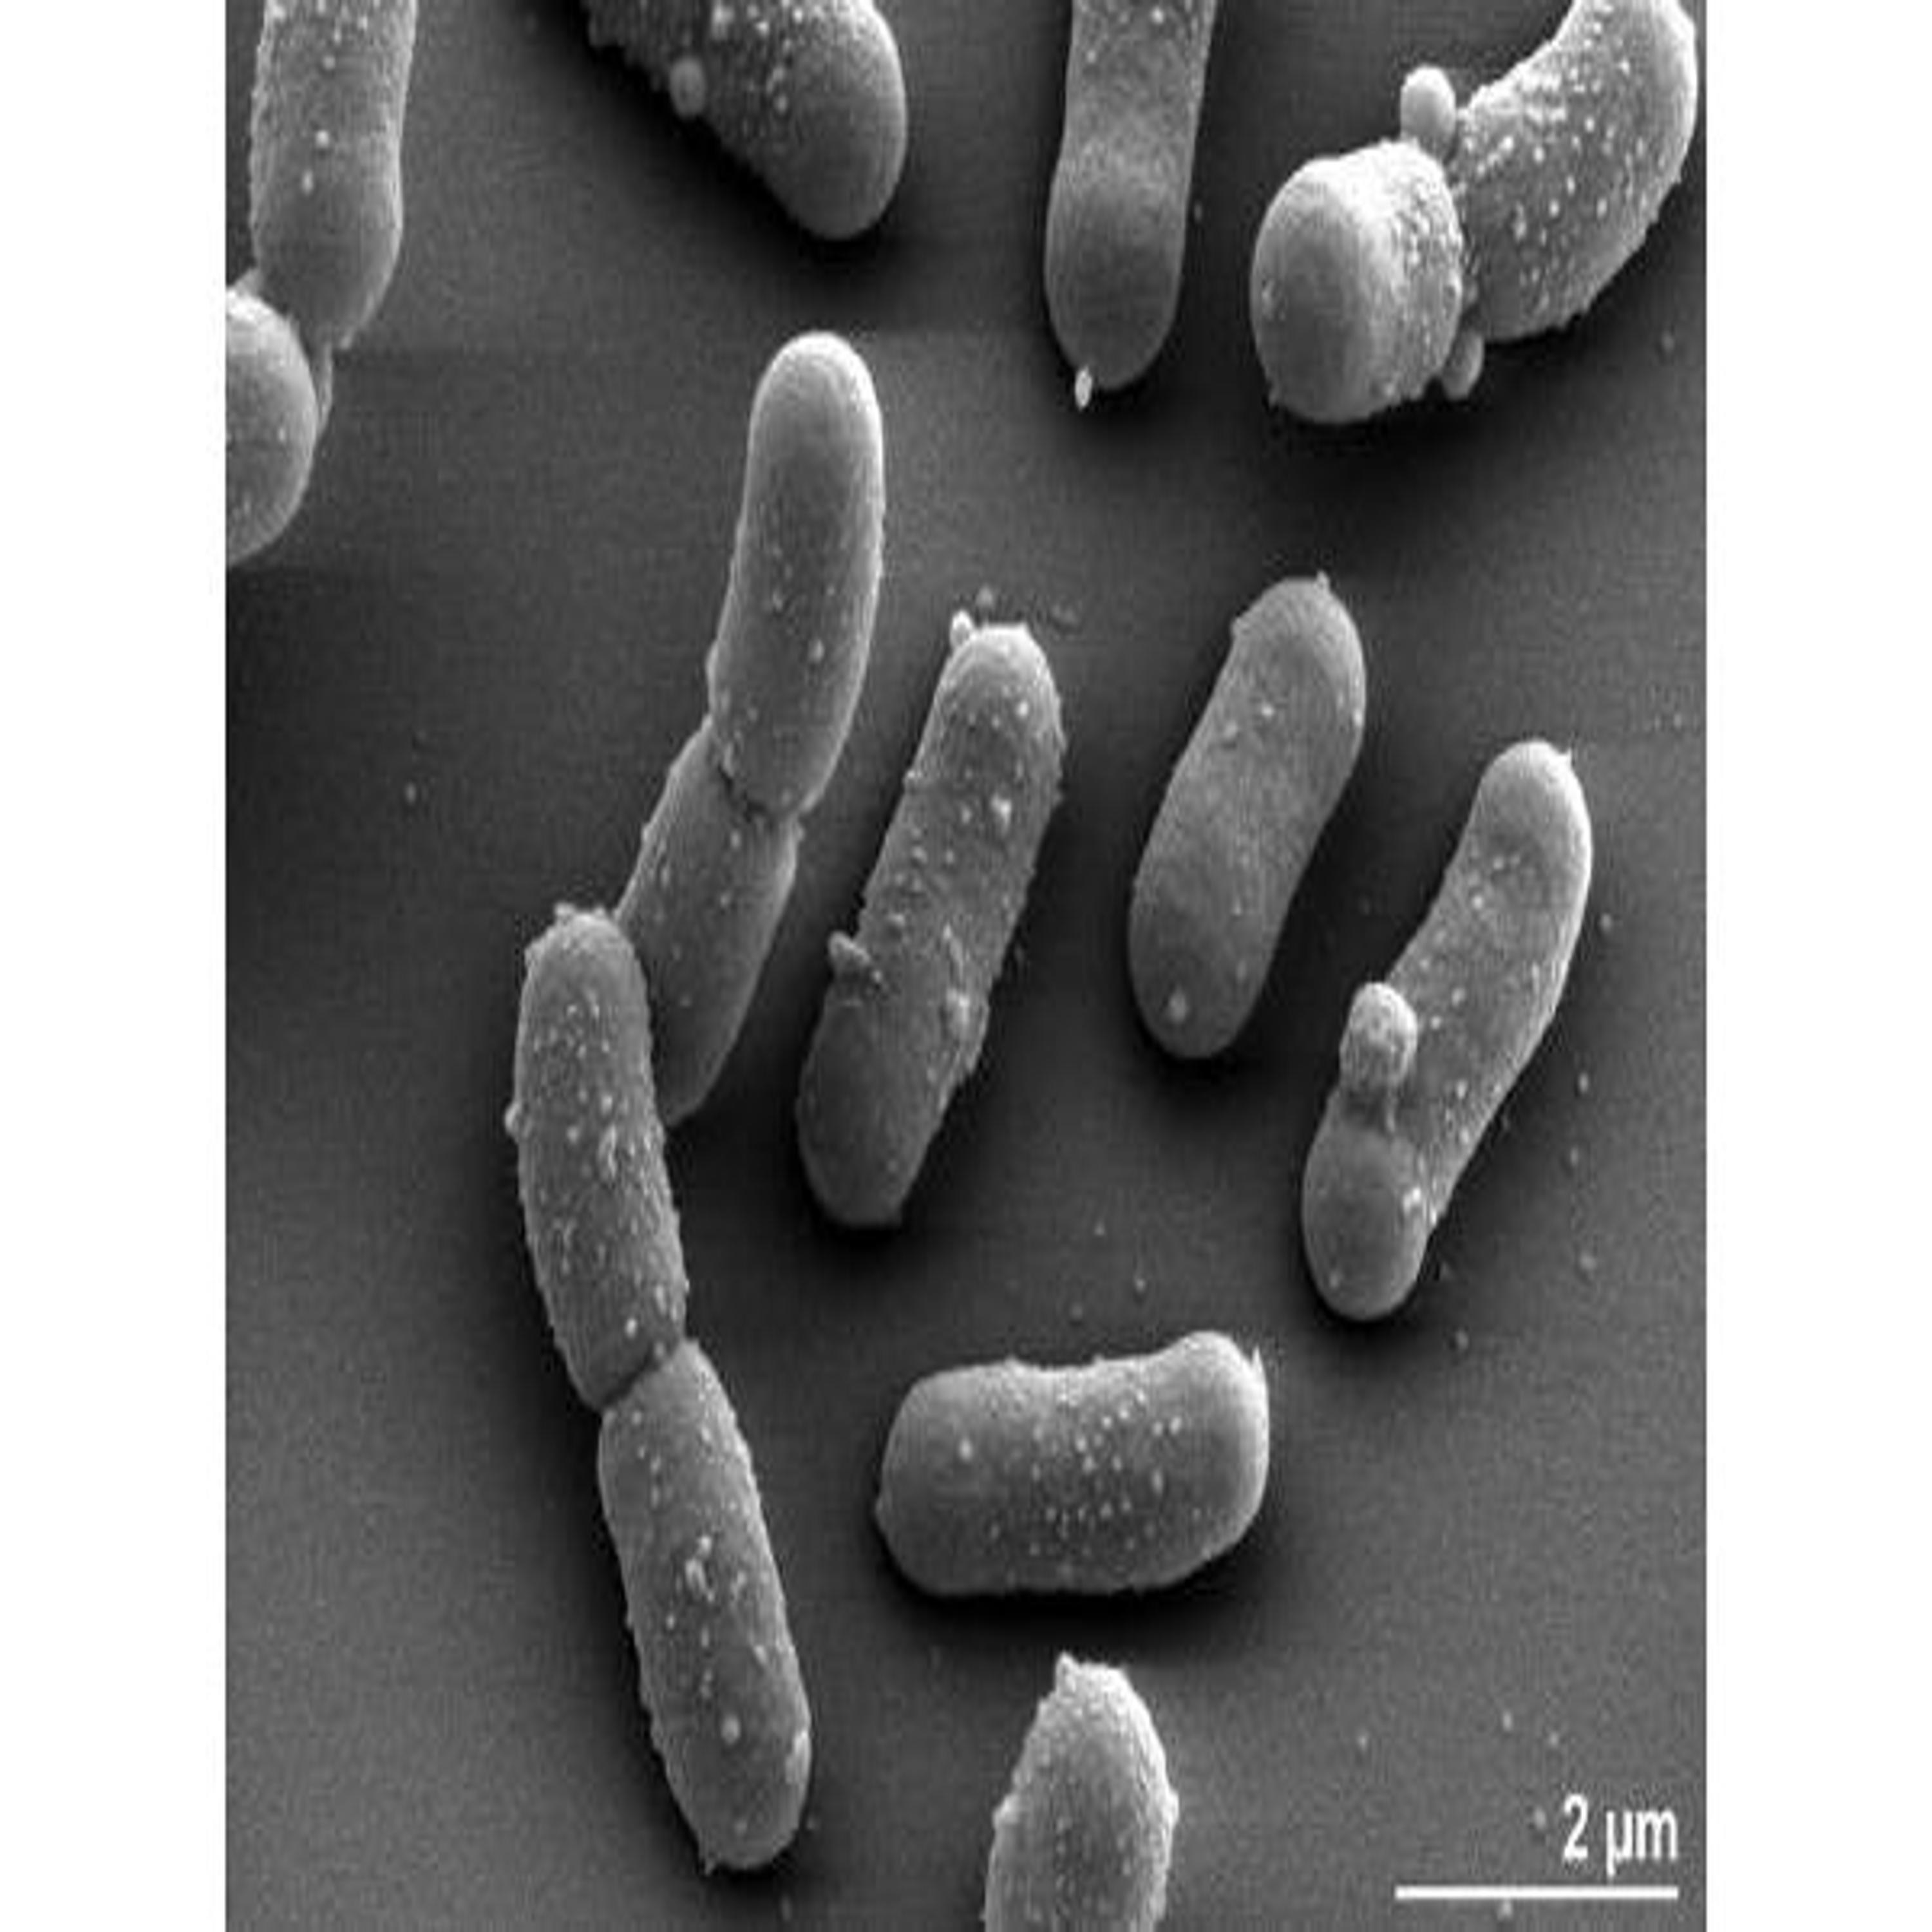salmonella_typhi5: (1299, 740, 1591, 1322), (805, 623, 1063, 1223), (1132, 570, 1366, 1054), (869, 1322, 1274, 1594)
